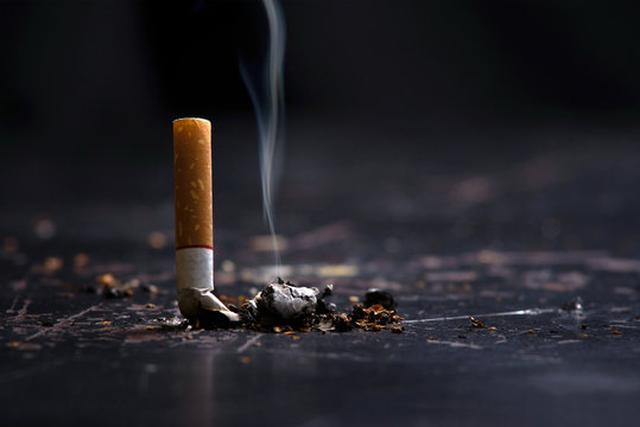Cigarette: (171, 115, 240, 324)
